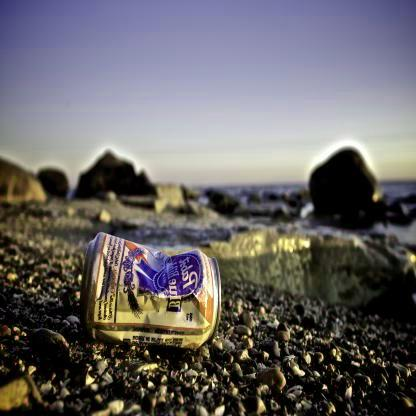Metal: (76, 228, 227, 351)
